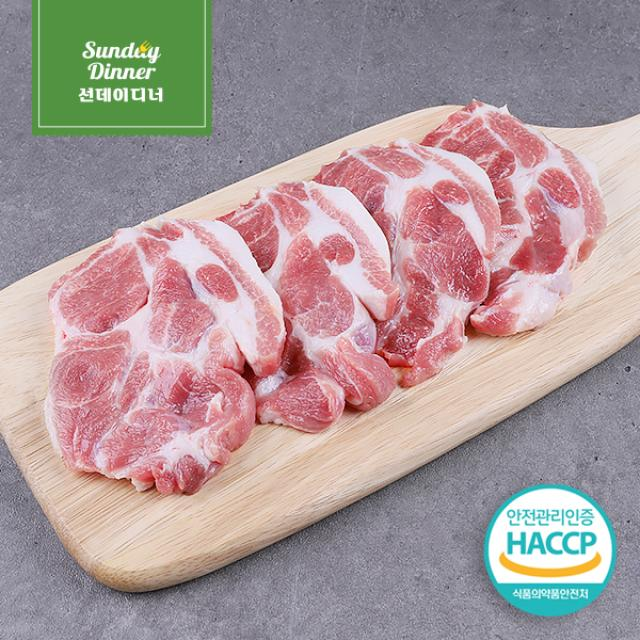pork: (1, 134, 639, 503), (39, 218, 284, 497)
